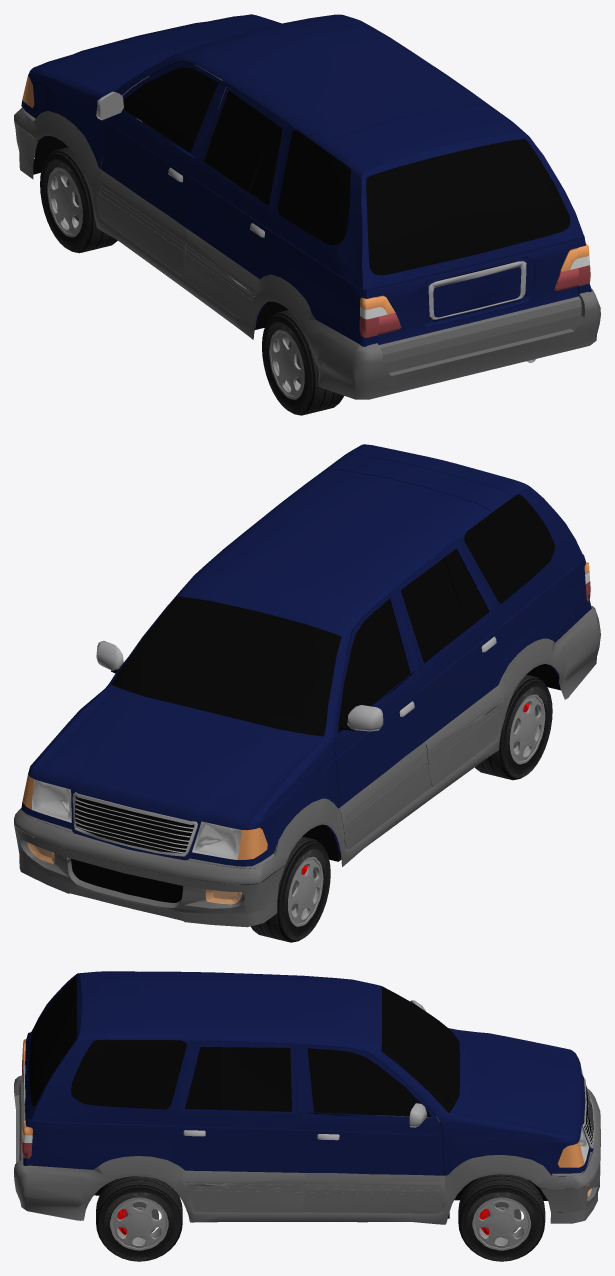
The model's file is MPV.glb.
3 renders of one model, top to bottom at view 1: azimuth 30°, elevation 25°; view 2: azimuth 150°, elevation 25°; view 3: azimuth 270°, elevation 25°, orthographic. The views are drawn at different scales.
Parts seen in each view (by area): view 1: Than-Xe, Kinh-Sau-Lung, Can-Sau, Cua-Truoc, Cua-Sau, Cop-xe, Plane.006_40, Kinh-cop, Chan-Bun-Truoc, Bien-So-Xe.001, Kinh-Sau, Kinh-Truoc (+8 smaller); view 2: Than-Xe, Plane.006_40, Kinh chan gio, Can-Truoc, Cua-Sau, Cua-Truoc, Chan-Bun-Truoc, Kinh-cop, Kinh-Sau, Kinh-Truoc, Den-Pha, Plane.033_19 (+13 smaller); view 3: Than-Xe, Cua-Truoc, Cua-Sau, Plane.006_40, Chan-Bun-Truoc, Kinh-cop, Kinh-Sau, Kinh chan gio, Kinh-Truoc, Can-Sau, Lop-Truoc-Phai, Lop-Sau-Phai (+9 smaller).
Boxes of the visible parts, x1,y1,x2,y2 form: Than-Xe: [99, 14, 591, 346]; Kinh-Sau-Lung: [366, 139, 570, 275]; Can-Sau: [300, 288, 600, 399]; Cua-Truoc: [93, 61, 222, 288]; Cua-Sau: [183, 84, 287, 339]; Cop-xe: [361, 133, 585, 344]; Plane.006_40: [34, 14, 279, 93]; Kinh-cop: [277, 130, 551, 245]; Chan-Bun-Truoc: [21, 14, 281, 212]; Bien-So-Xe.001: [419, 256, 534, 326]; Kinh-Sau: [204, 90, 282, 205]; Kinh-Truoc: [123, 67, 217, 151]; Than-Xe: [109, 444, 591, 827]; Plane.006_40: [30, 684, 323, 830]; Kinh chan gio: [111, 596, 341, 736]; Can-Truoc: [14, 808, 287, 927]; Cua-Sau: [229, 540, 508, 798]; Cua-Truoc: [335, 592, 432, 866]; Chan-Bun-Truoc: [21, 684, 345, 866]; Kinh-cop: [464, 494, 555, 603]; Kinh-Sau: [401, 549, 488, 662]; Kinh-Truoc: [338, 599, 409, 731]; Den-Pha: [22, 774, 267, 859]; Plane.033_19: [78, 798, 194, 850]; Than-Xe: [23, 971, 448, 1210]; Cua-Truoc: [301, 1044, 449, 1224]; Cua-Sau: [171, 1040, 305, 1222]; Plane.006_40: [449, 1028, 584, 1142]; Chan-Bun-Truoc: [439, 1028, 590, 1211]; Kinh-cop: [71, 1007, 186, 1109]; Kinh-Sau: [185, 1047, 291, 1111]; Kinh chan gio: [381, 986, 459, 1112]; Kinh-Truoc: [307, 1048, 431, 1116]; Can-Sau: [14, 1075, 112, 1220]; Lop-Truoc-Phai: [458, 1174, 545, 1261]; Lop-Sau-Phai: [96, 1176, 182, 1261].
Bounding box in the file's own units: 1.86 × 1.66 × 4.06.
36 materials, 4 textured.
